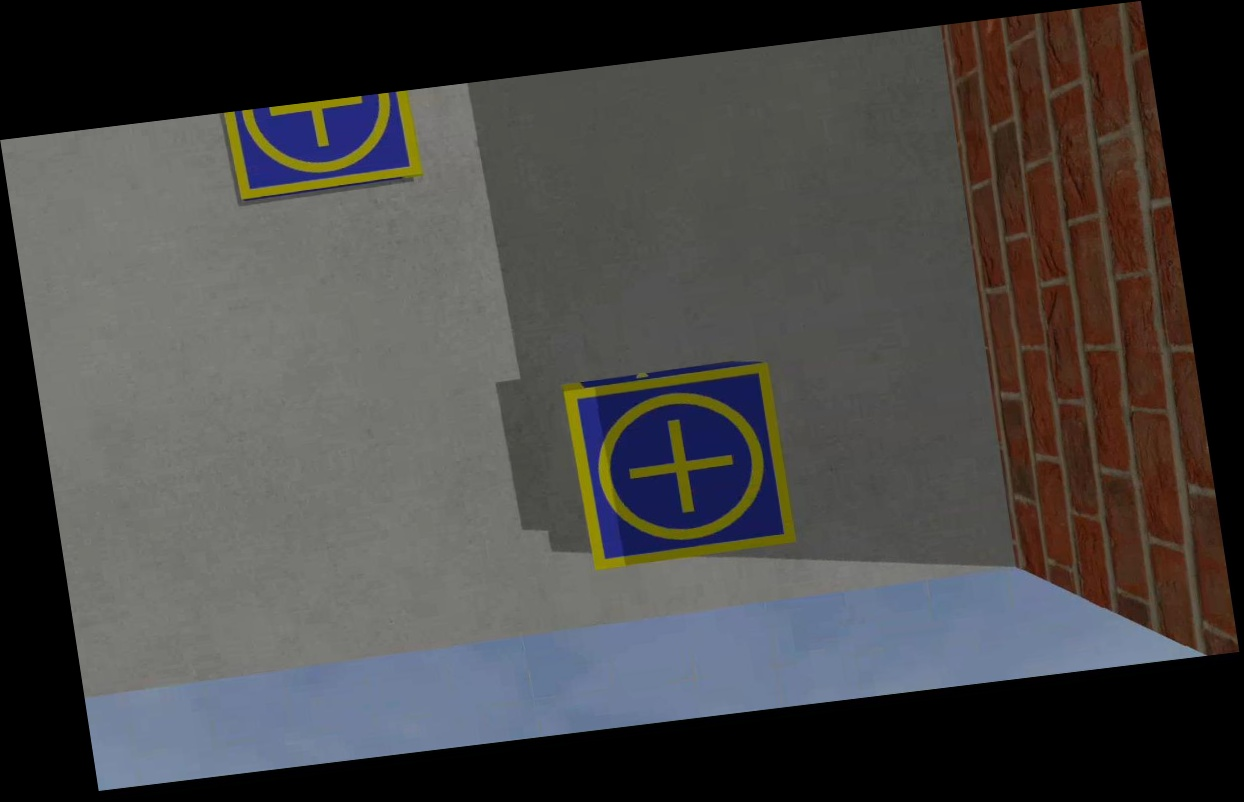small_base: (564, 360, 799, 570), (222, 90, 421, 201)
